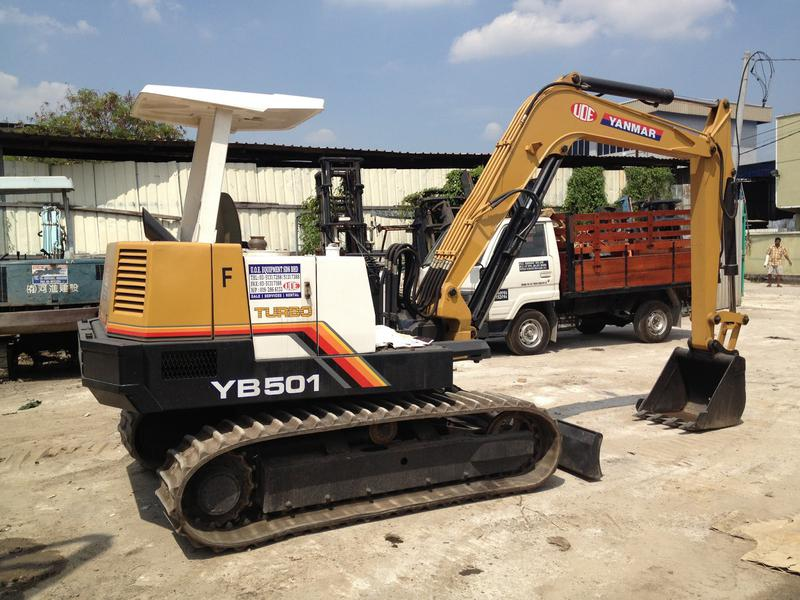shovel: (66, 69, 758, 564)
